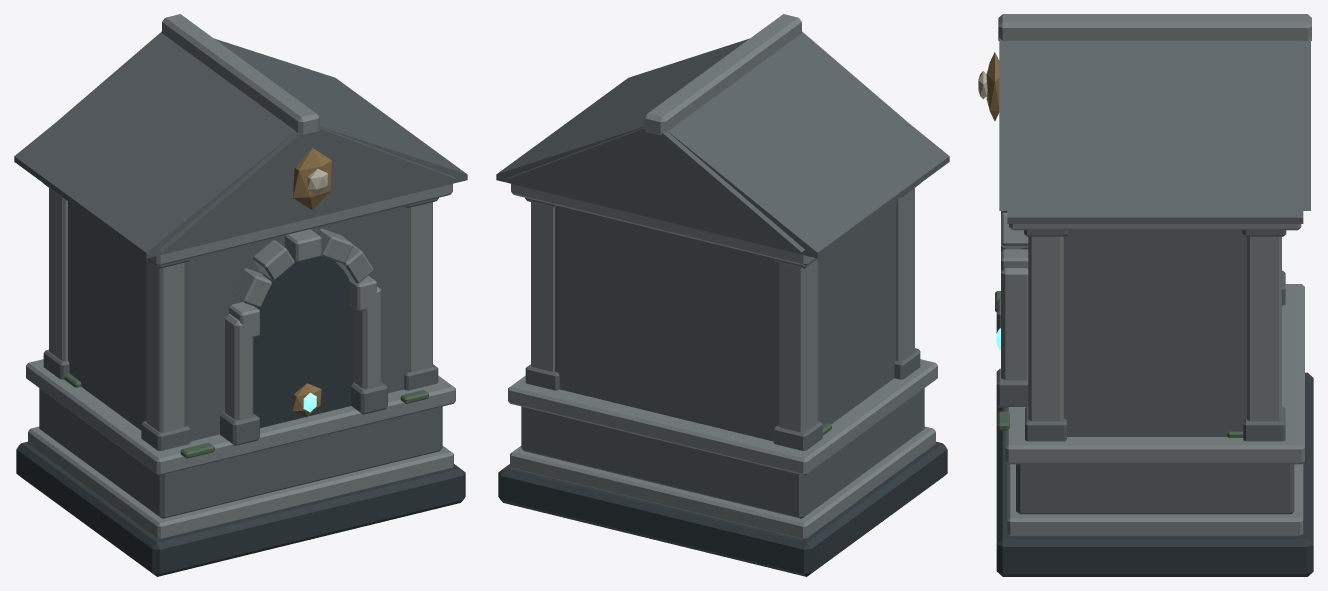
Rendered from warden_mausoleum.glb.
The picture shows the model from 3 angles, left to right: view 1: azimuth 30°, elevation 25°; view 2: azimuth 150°, elevation 25°; view 3: azimuth 270°, elevation 25°; orthographic projection. The views are drawn at different scales.
Parts seen in each view (by area): view 1: warden_mausoleum; view 2: warden_mausoleum; view 3: warden_mausoleum.
Boxes of the visible parts, left/top/right/bottom form: warden_mausoleum: left=14, top=14, right=467, bottom=576; warden_mausoleum: left=496, top=14, right=949, bottom=576; warden_mausoleum: left=978, top=14, right=1313, bottom=576.
Bounding box in the file's own units: 2.36 × 2.98 × 1.9.
